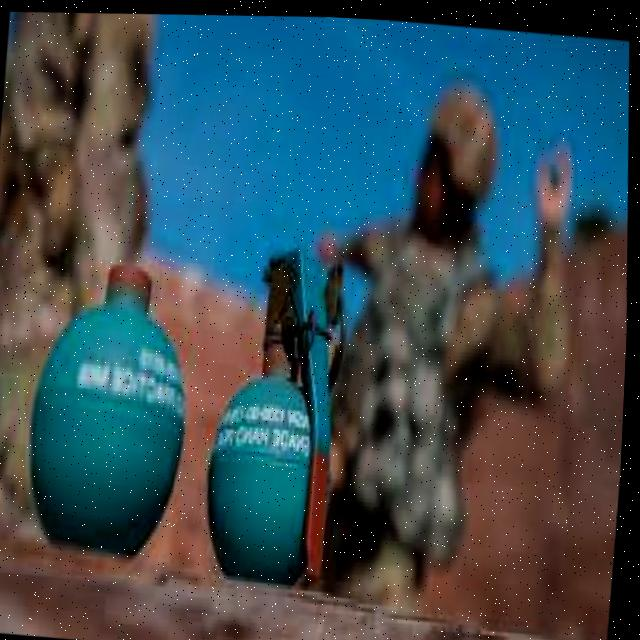grenade: (193, 233, 370, 593)
